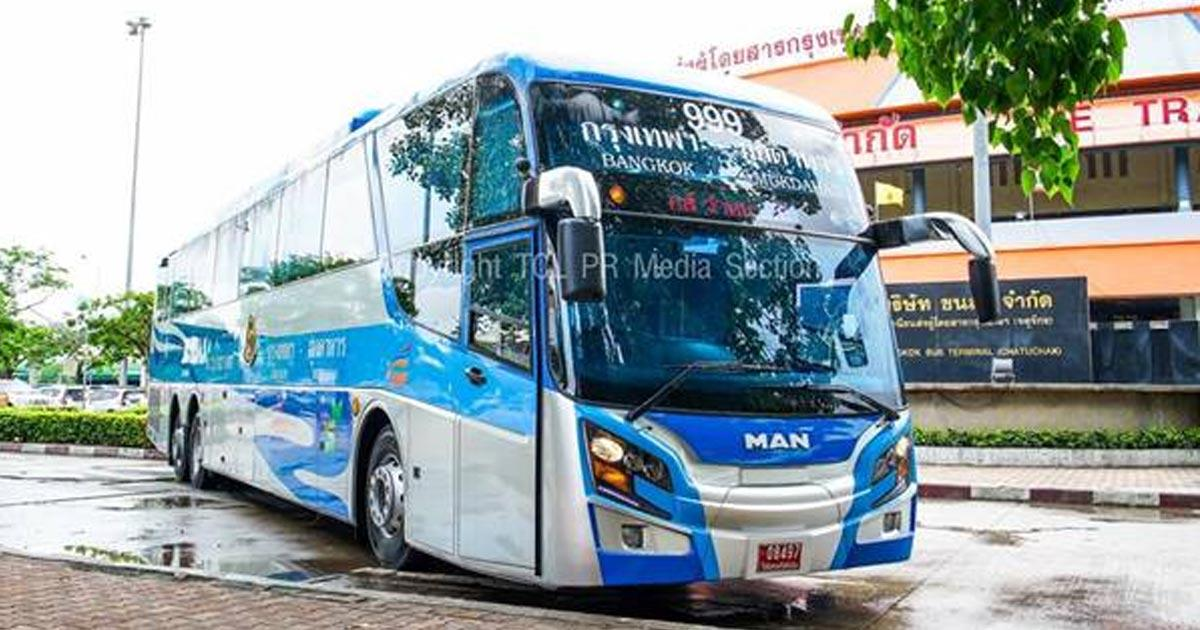bus: (146, 51, 921, 592)
